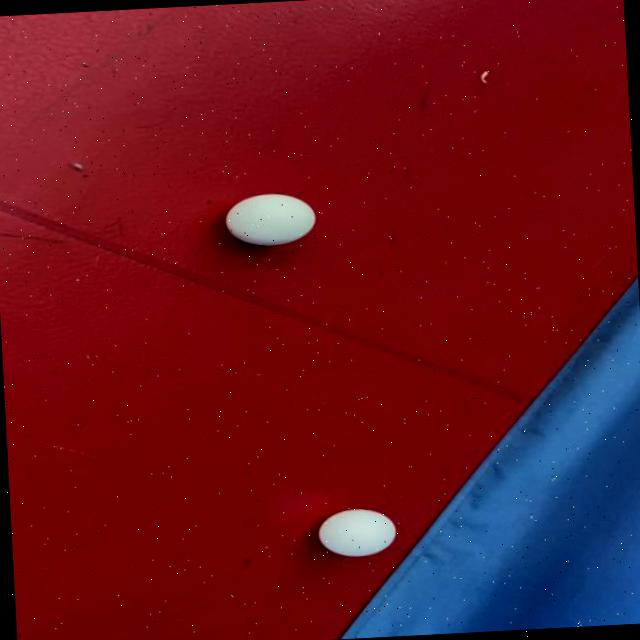ping-pong-ball: (204, 182, 343, 264), (306, 497, 412, 566)
